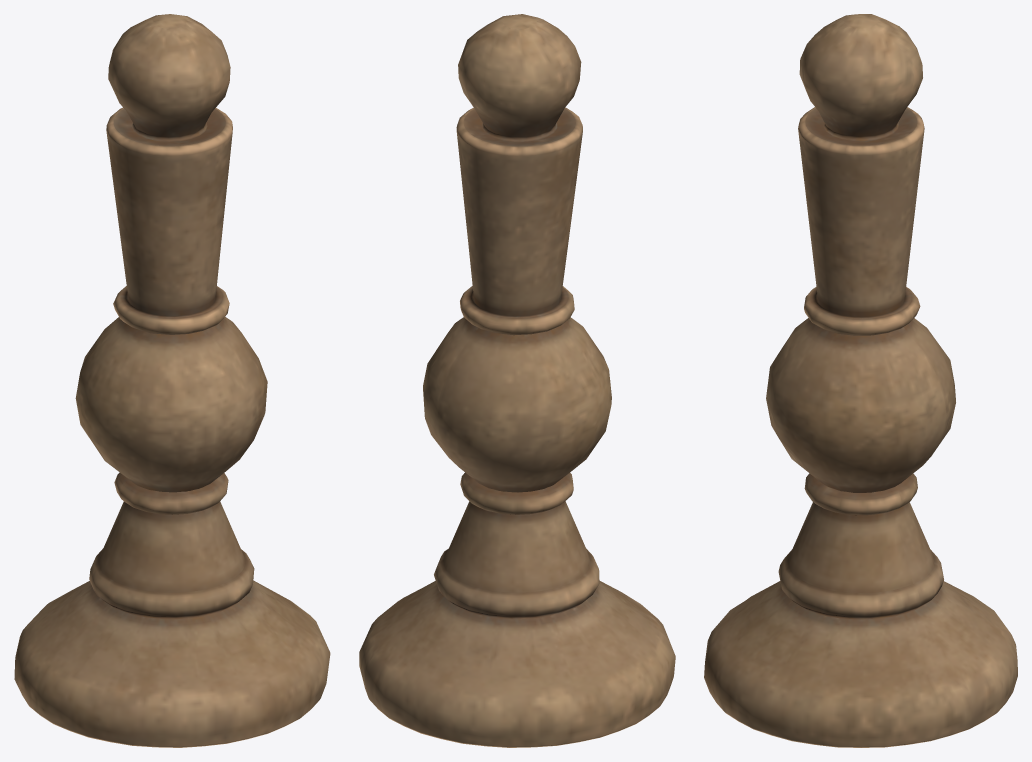
The model's file is SM_Prop_Stamp_A.fbx.
The picture shows the model from 3 angles, left to right: view 1: azimuth 30°, elevation 25°; view 2: azimuth 150°, elevation 25°; view 3: azimuth 270°, elevation 25°; orthographic projection.
Visible parts, largest first — view 1: SM_Prop_Stamp_A_LOD0; view 2: SM_Prop_Stamp_A_LOD0; view 3: SM_Prop_Stamp_A_LOD0.
Part boxes in pixels (left/top/right/bottom): SM_Prop_Stamp_A_LOD0: left=14, top=14, right=330, bottom=747; SM_Prop_Stamp_A_LOD0: left=359, top=14, right=675, bottom=747; SM_Prop_Stamp_A_LOD0: left=704, top=14, right=1017, bottom=747.
Bounding box in the file's own units: 7.28 × 7.28 × 16.98.
Materials: 1 (1 with a texture image).
